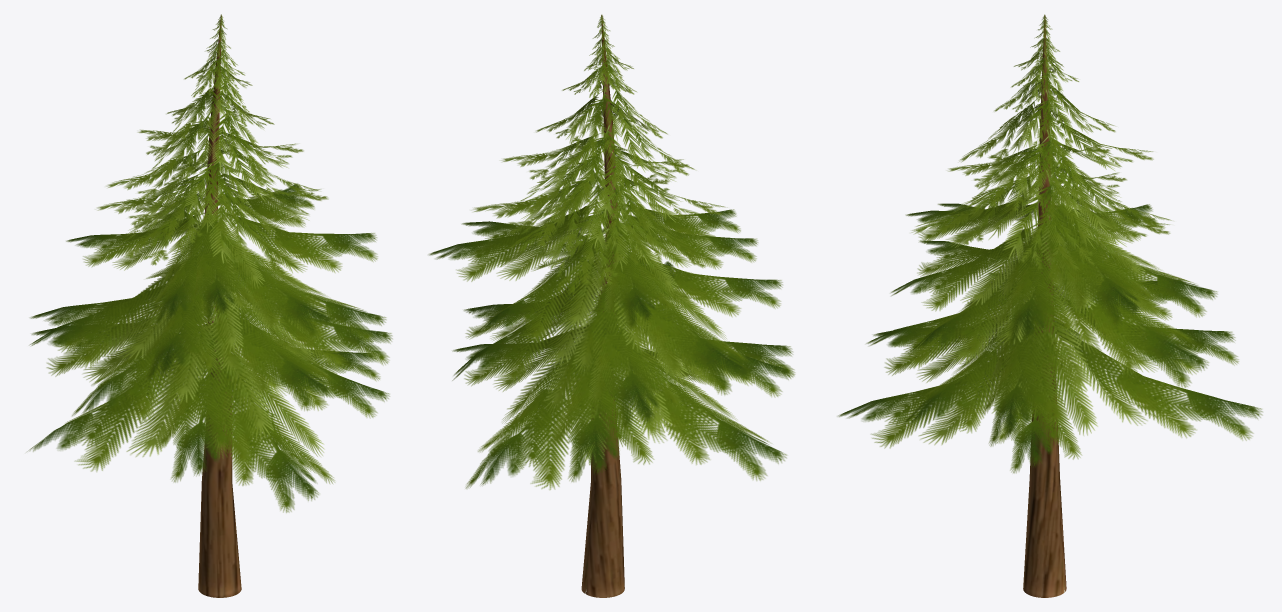
File: fir.glb
3 views of the same model, side by side, from view 1: azimuth 30°, elevation 25°; view 2: azimuth 150°, elevation 25°; view 3: azimuth 270°, elevation 25° (orthographic).
Visible parts, largest first — view 1: Object_2; view 2: Object_2; view 3: Object_2.
Part boxes in pixels (<box>): Object_2: <box>27,14,392,597</box>; Object_2: <box>428,14,794,597</box>; Object_2: <box>837,14,1262,597</box>.
Size of the model in its own units: 0.7679 by 1.2 by 0.8224.
1 material, 1 textured.
